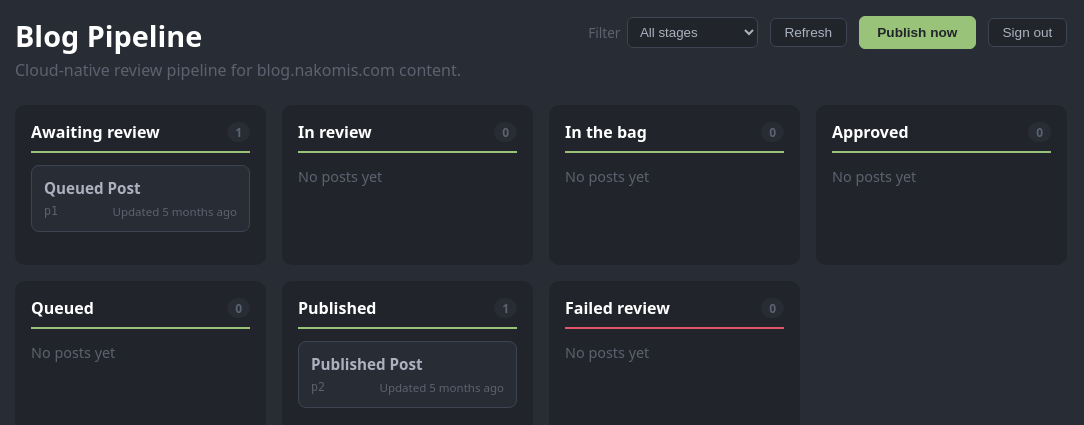
Test: App — dashboard › filtering by stage shows only the chosen column
This screenshot has width=1084, height=425.
Expected: the heading "Queued Post" is shown, [44,178,141,198]
Select "Published" in the dropdown named "Filter by stage" at (692, 32), box [627,17,758,48]
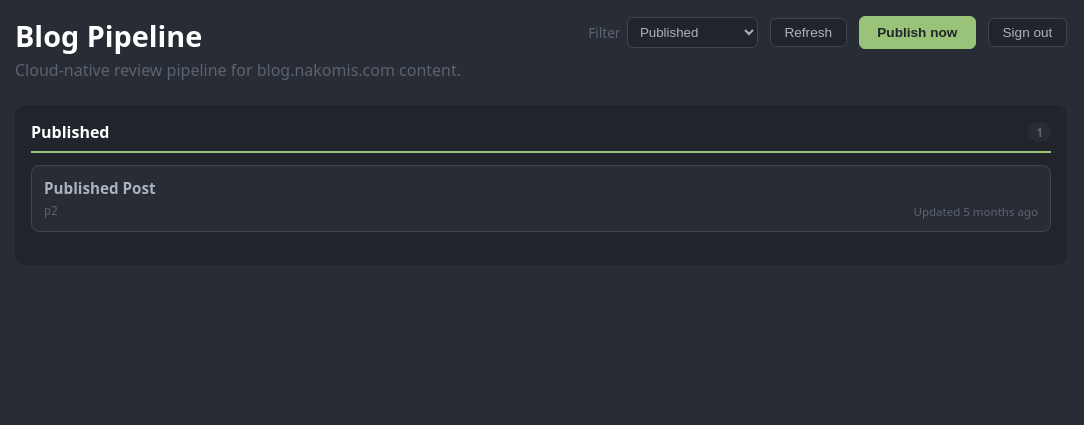
Expected: the heading "Published Post" is shown, [44,178,156,198]
Expected: the link "Queued Post" is gone
